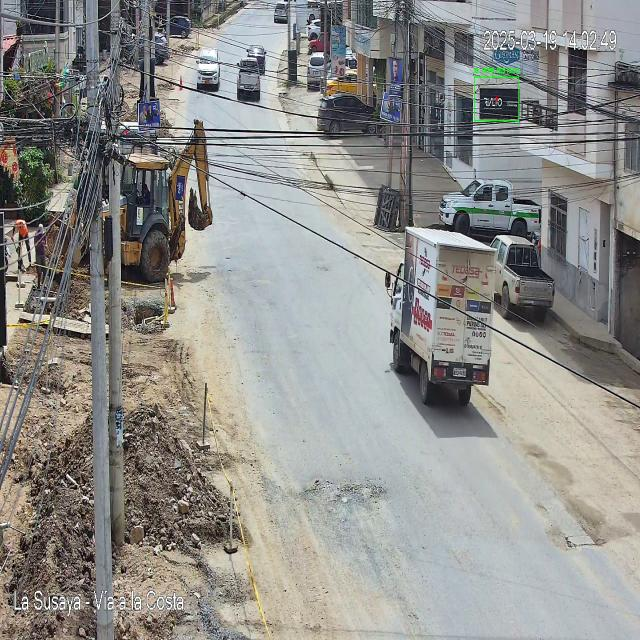TRUCK: (390, 227, 498, 406)
